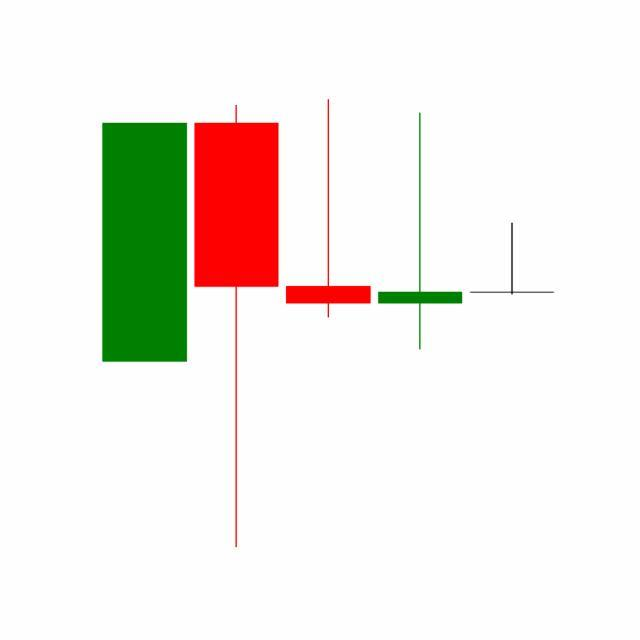Spinning Top: (374, 111, 468, 353)
